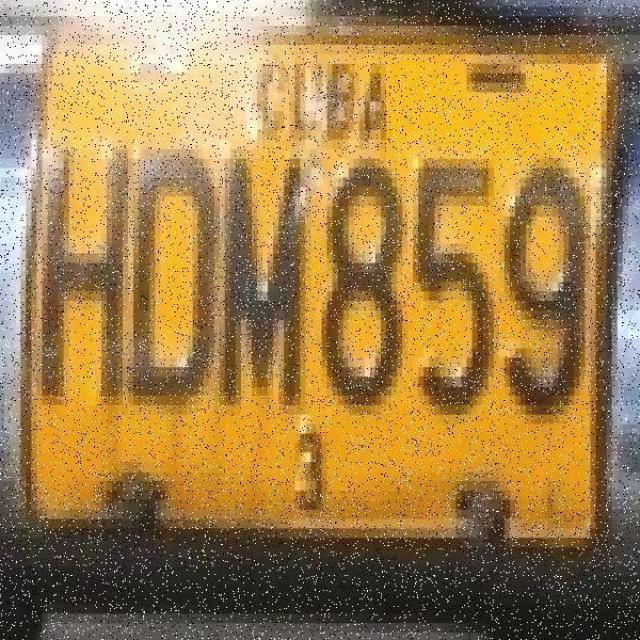license-plate: (10, 4, 640, 640), (9, 0, 588, 451)
